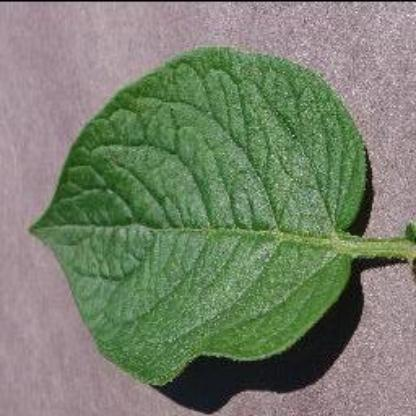Healthy-plant: (28, 46, 416, 388)
